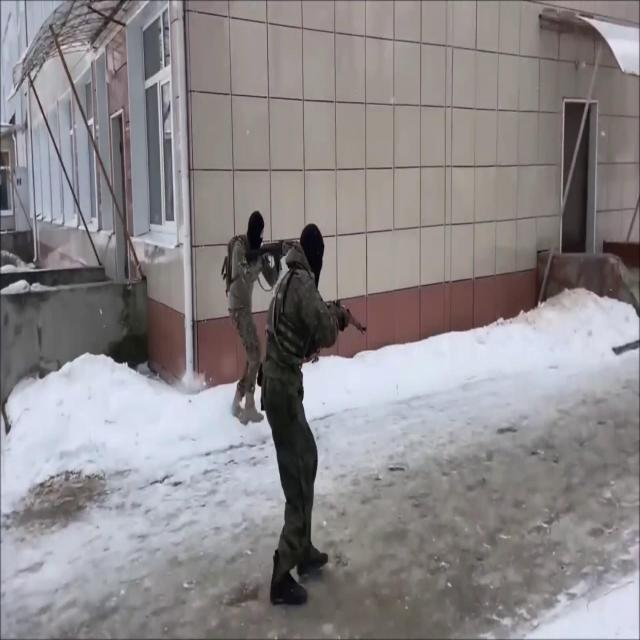pistol: (321, 293, 369, 339), (246, 235, 300, 275)
